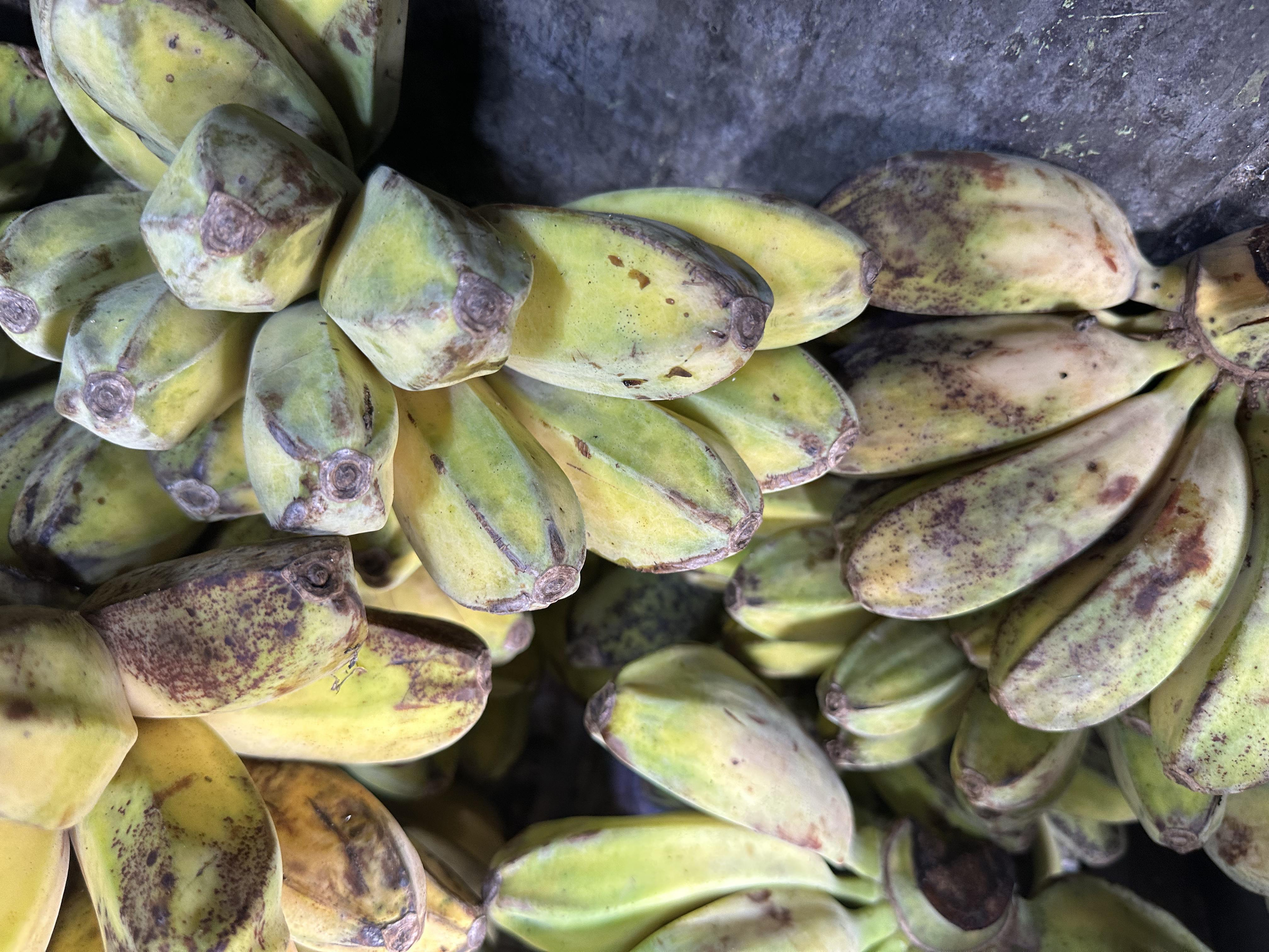underripe: (0, 0, 880, 613), (820, 150, 1269, 894), (682, 478, 1132, 864), (1, 606, 487, 952), (485, 644, 866, 952), (74, 537, 540, 767)
